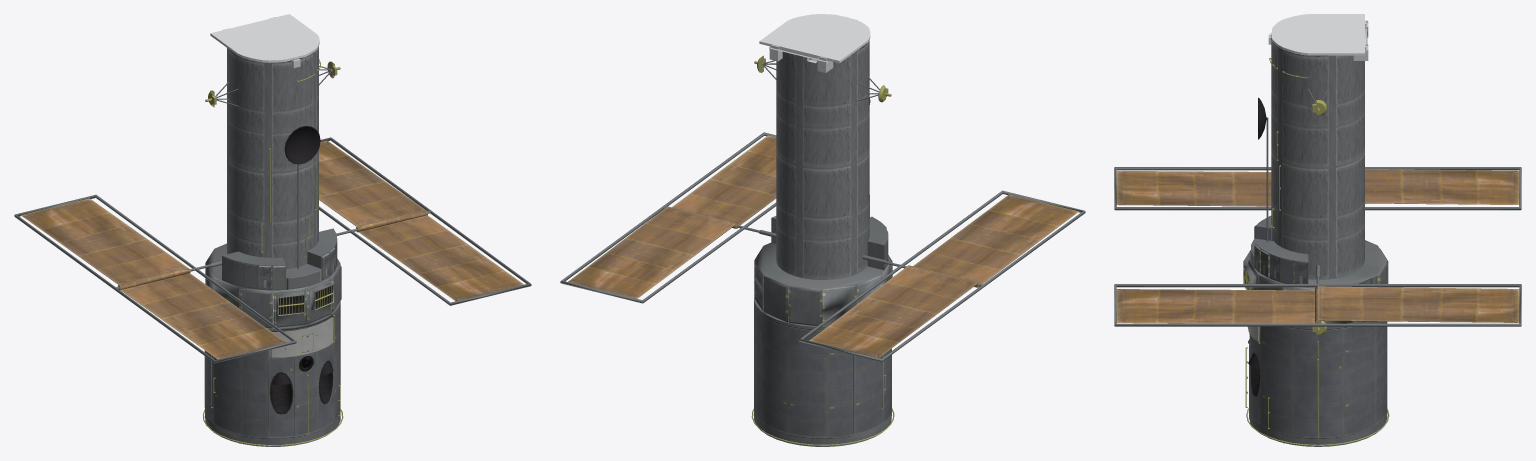
The model's file is hubble.glb.
3 renders of one model, left to right at view 1: azimuth 30°, elevation 25°; view 2: azimuth 150°, elevation 25°; view 3: azimuth 270°, elevation 25°, orthographic.
Parts seen in each view (by area): view 1: hst, door; view 2: hst, door; view 3: hst, door.
Boxes of the visible parts, x1,y1,x2,y2 form: hst: (14,46,531,446); door: (210,14,319,62); hst: (560,40,1085,446); door: (759,14,870,63); hst: (1114,39,1521,446); door: (1270,14,1368,55).
Bounding box in the file's own units: 458 × 528 × 501.
Materials: 9 (5 with a texture image).
